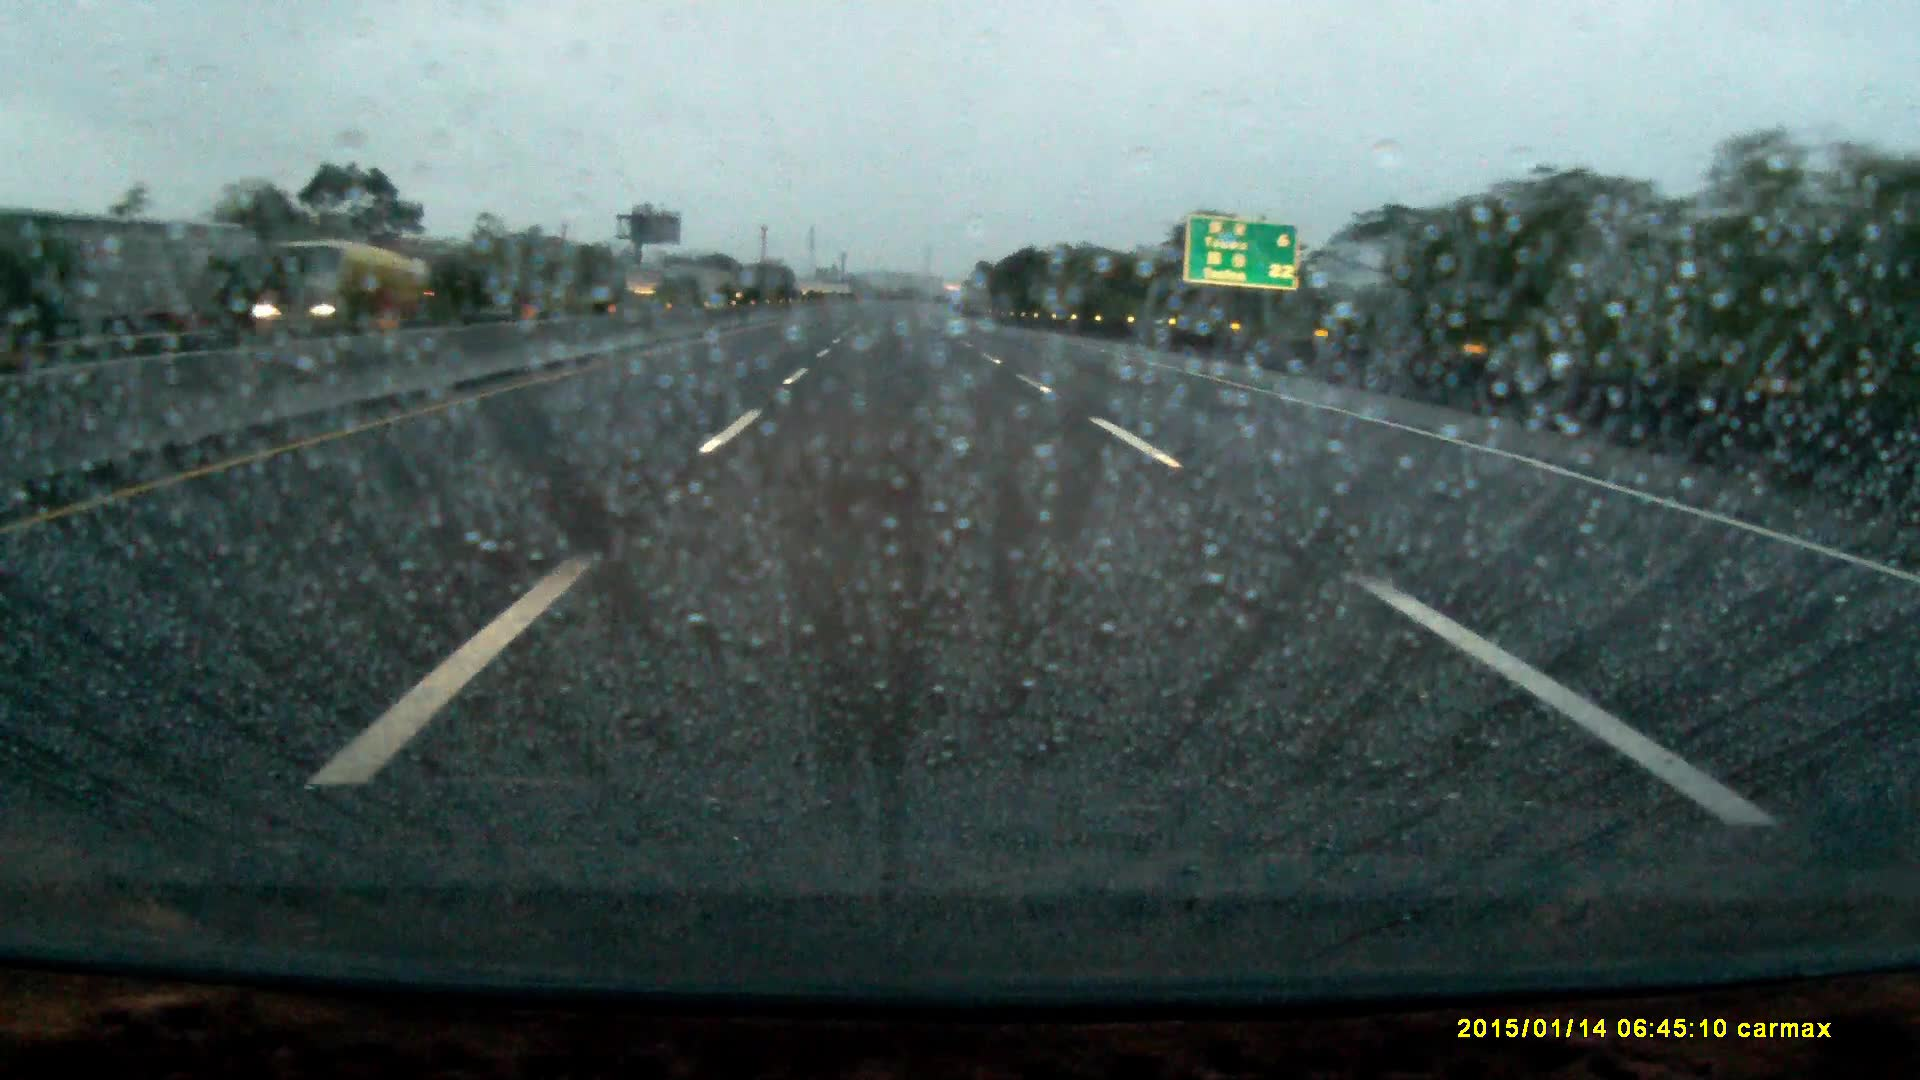vehicle: (231, 243, 422, 327), (249, 290, 371, 331)
